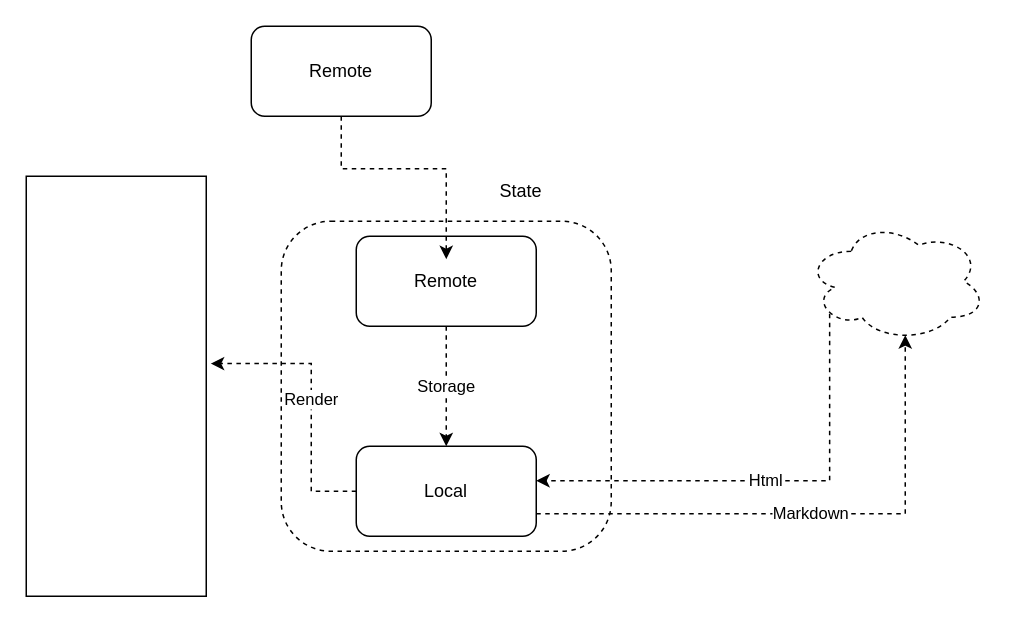
The diagram is 1013 pixels wide and 623 high, and some of its shapes have lost their labels. Here are the shapes that lost their labels. From the top down, the box of each, then its label:
(805, 220, 986, 341): Cloud Function
(25, 175, 206, 596): Ui
